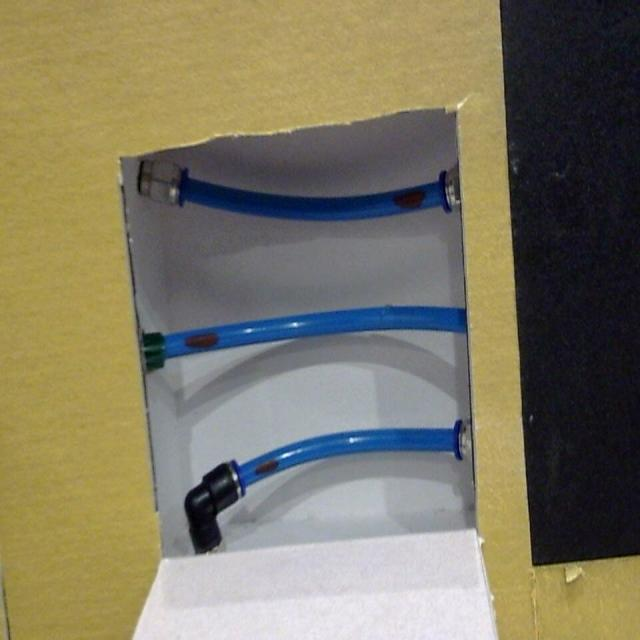hose_damage: (248, 454, 286, 483), (391, 186, 426, 213), (182, 331, 223, 350)
